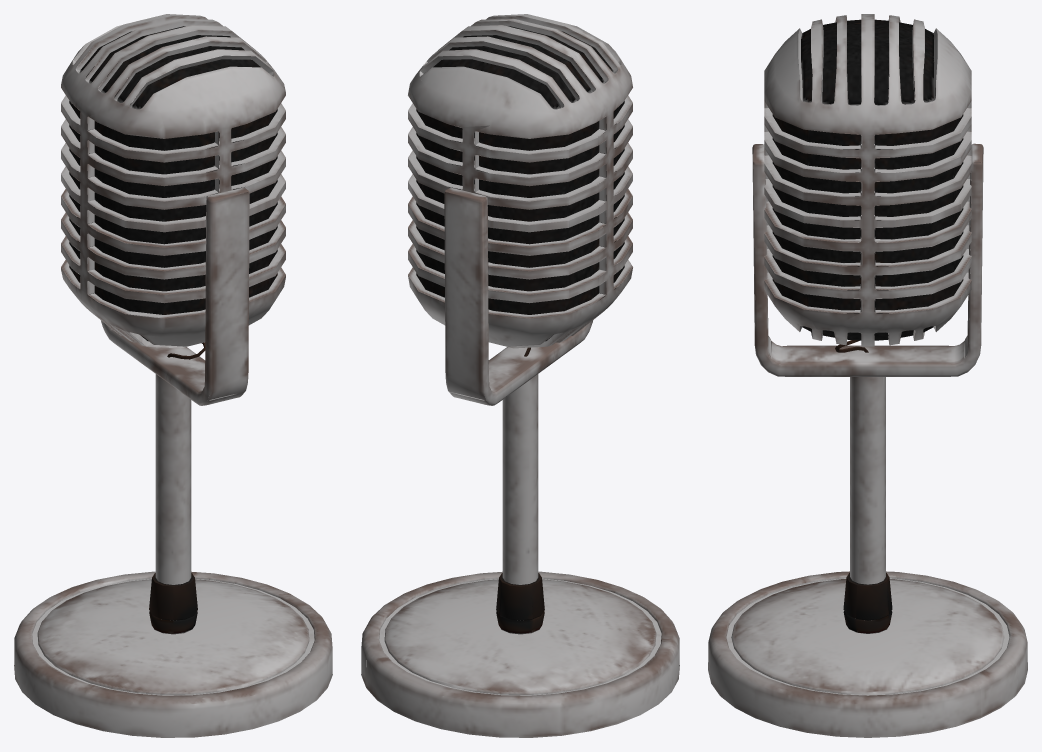
The model's file is vintage_microphone.glb.
3 renders of one model, left to right at view 1: azimuth 30°, elevation 25°; view 2: azimuth 150°, elevation 25°; view 3: azimuth 270°, elevation 25°, orthographic.
Visible parts, largest first — view 1: Circle__0.001; view 2: Circle__0.001; view 3: Circle__0.001.
Part boxes in pixels (bbox=[...]): Circle__0.001: bbox=[14, 14, 332, 737]; Circle__0.001: bbox=[361, 14, 679, 737]; Circle__0.001: bbox=[708, 14, 1027, 737].
Size of the model in its own units: 16.97 by 37.4 by 16.97.
1 material, 1 textured.
